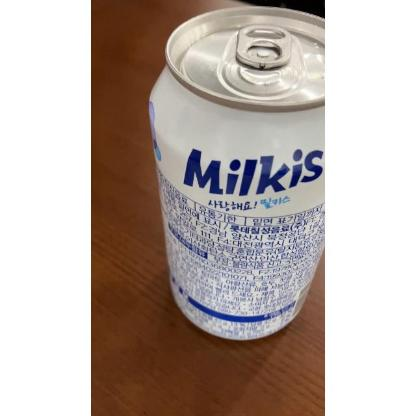Can: (147, 4, 325, 342)
